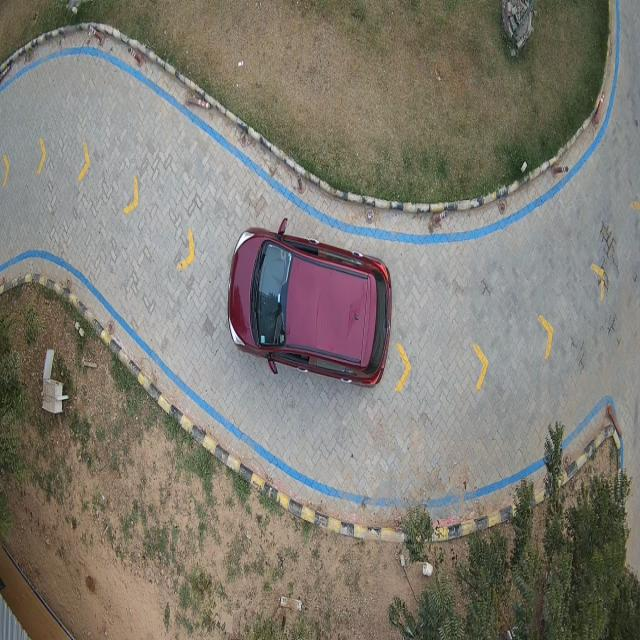car: (226, 227, 393, 389)
